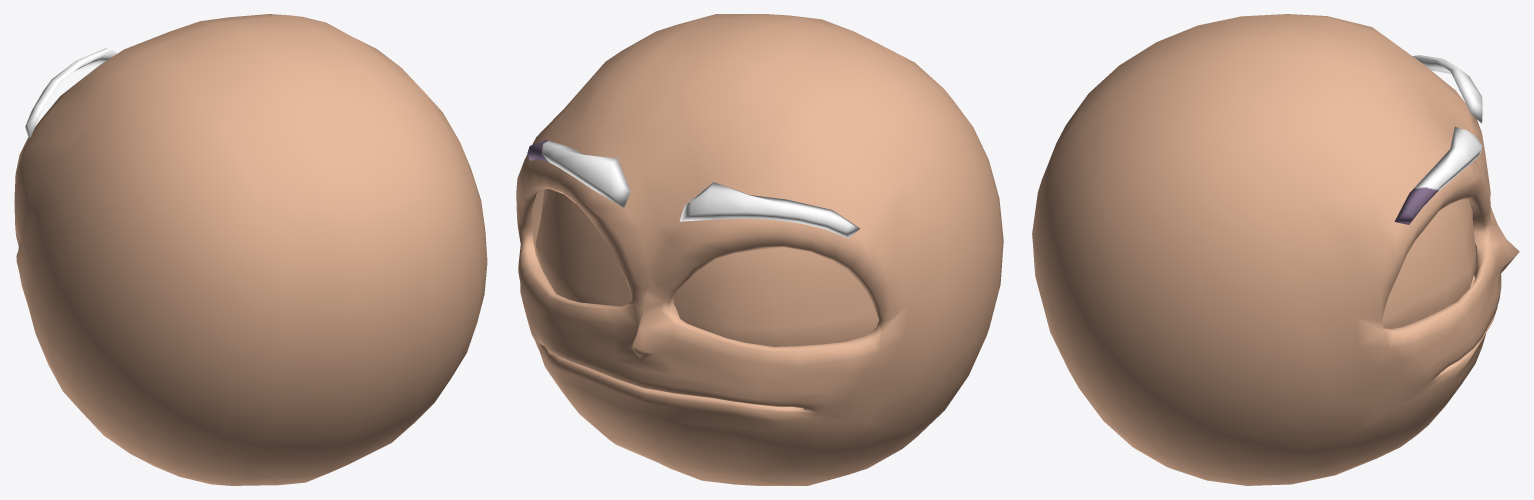
File: cabeza 2.fbx
3 renders of one model, left to right at view 1: azimuth 30°, elevation 25°; view 2: azimuth 150°, elevation 25°; view 3: azimuth 270°, elevation 25°, orthographic. The views are drawn at different scales.
Parts seen in each view (by area): view 1: Cube.015; view 2: Cube.015; view 3: Cube.015.
Part boxes in pixels (x1,y1,x2,y2): Cube.015: (14, 14, 487, 485); Cube.015: (516, 14, 1003, 485); Cube.015: (1032, 14, 1519, 485).
Size of the model in its own units: 168 by 169 by 176.
